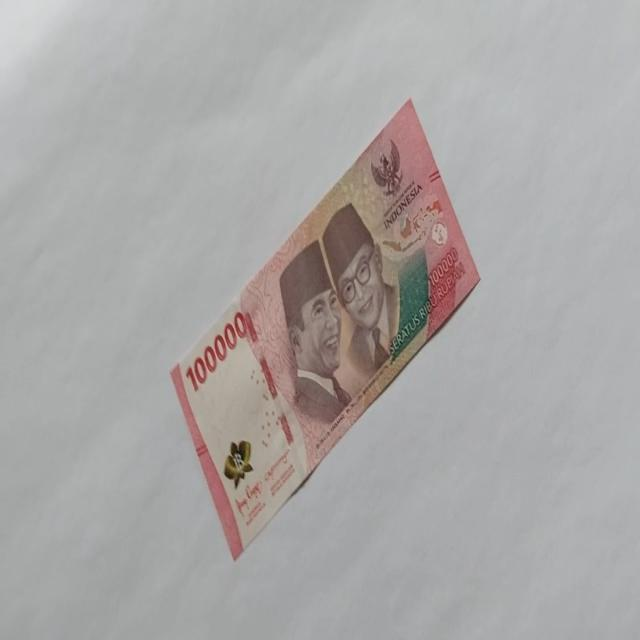seratus ribu rupiah: (169, 96, 481, 559)
